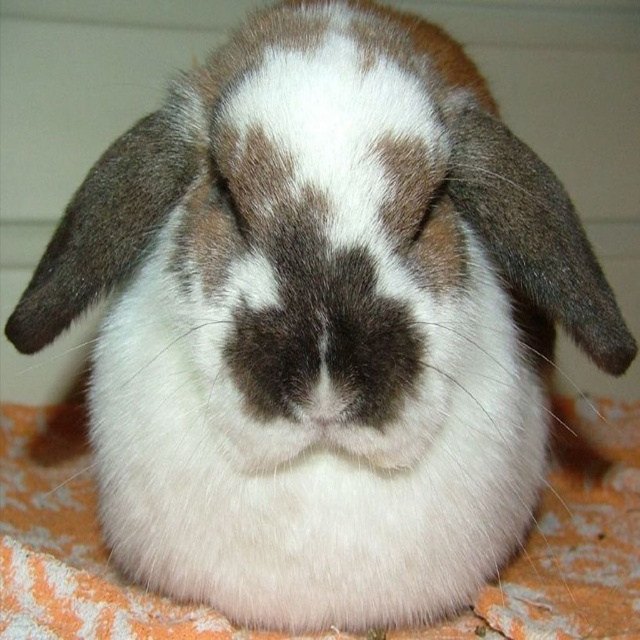Rabbit: (8, 0, 639, 634)
